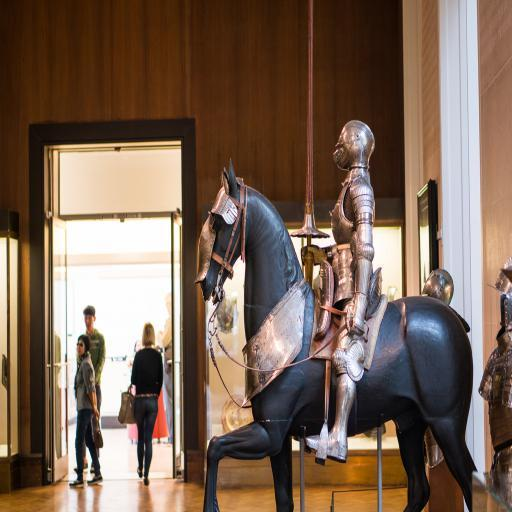horse: (198, 155, 480, 512)
